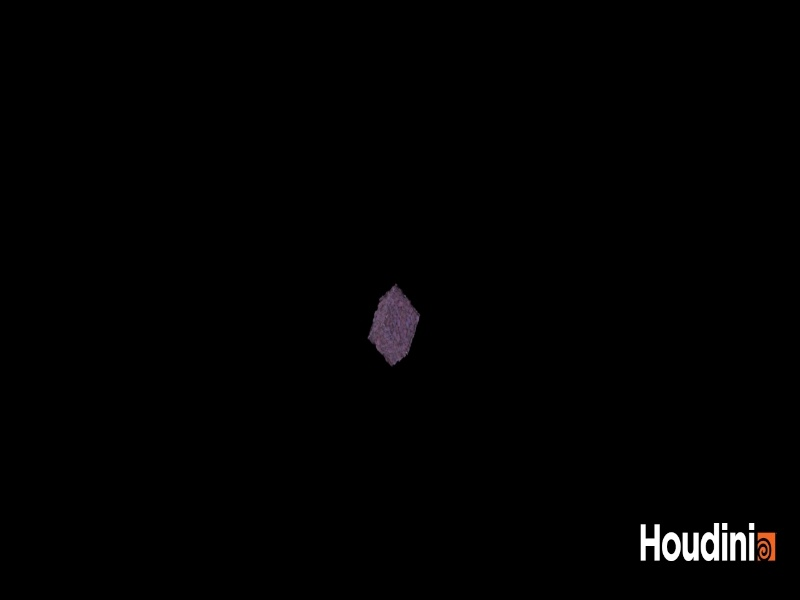waste: (355, 271, 430, 377)
